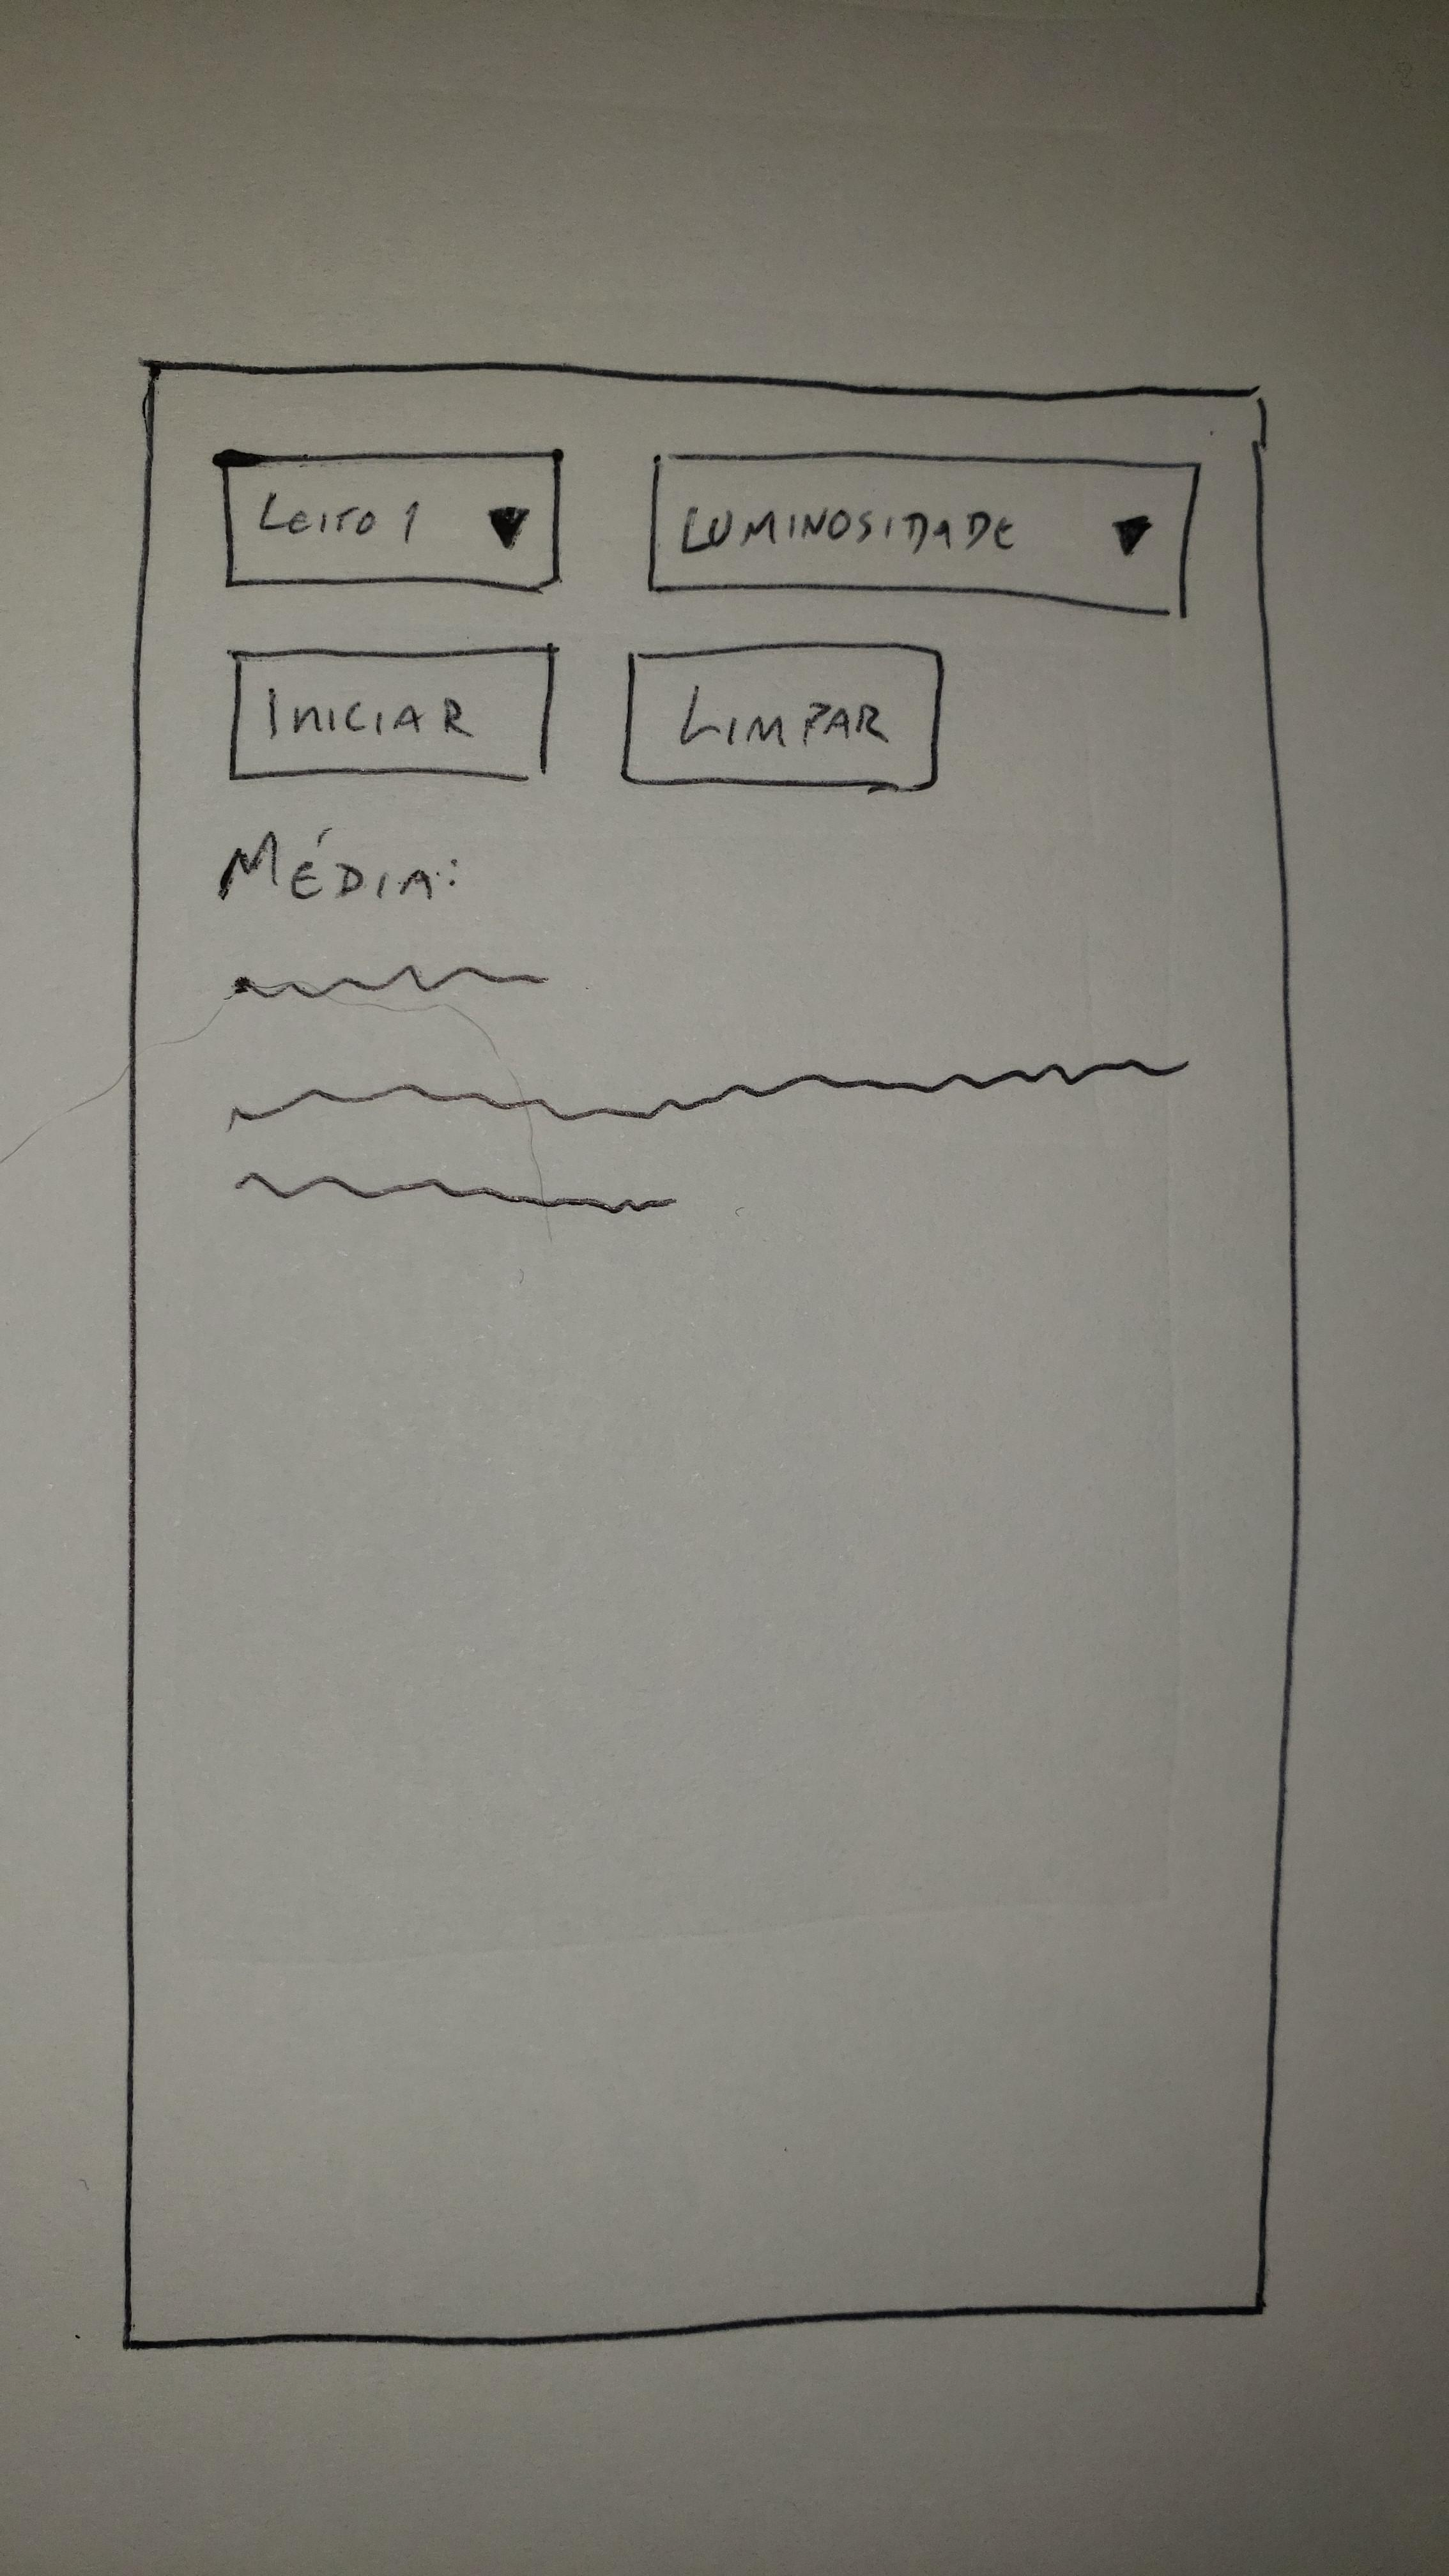Button: (226, 642, 557, 784), (625, 646, 947, 791)
Label: (223, 1054, 1192, 1215), (223, 828, 462, 906), (234, 961, 552, 1007)
ListPicker: (651, 453, 1201, 616), (214, 449, 561, 591)
Screen: (120, 361, 1300, 2353)
